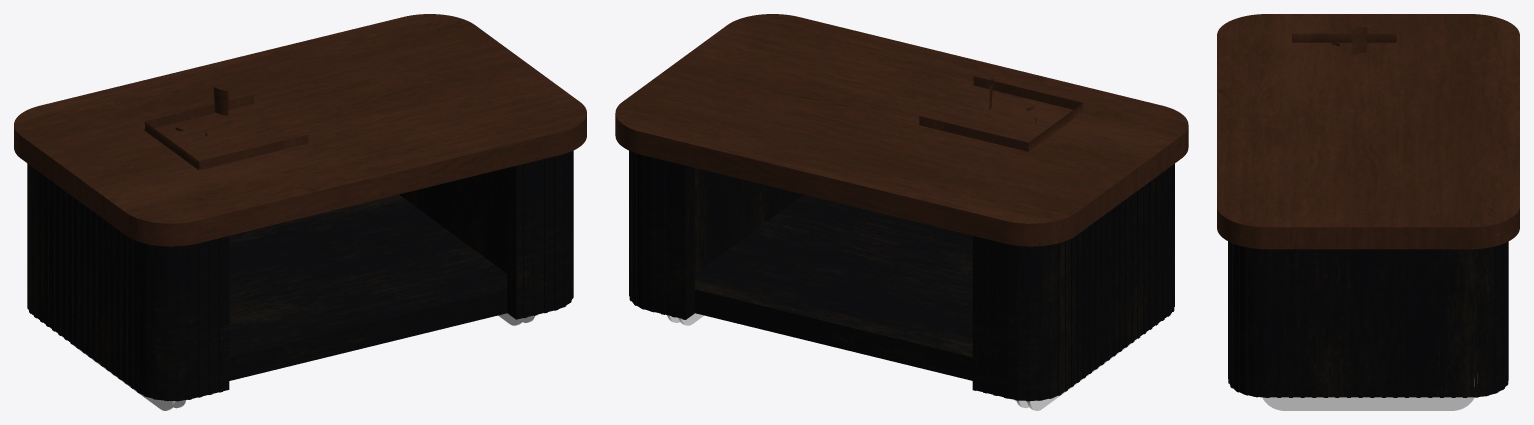
File: swordsehpa.glb
3 renders of one model, left to right at view 1: azimuth 30°, elevation 25°; view 2: azimuth 150°, elevation 25°; view 3: azimuth 270°, elevation 25°, orthographic. The views are drawn at different scales.
Visible parts, largest first — view 1: ASSET_Joined; view 2: ASSET_Joined; view 3: ASSET_Joined.
Boxes of the visible parts, x1,y1,x2,y2 form: ASSET_Joined: [14, 14, 586, 410]; ASSET_Joined: [615, 14, 1188, 410]; ASSET_Joined: [1217, 14, 1519, 410].
Bounding box in the file's own units: 1.05 × 0.5911 × 0.629.
Materials: 1 (1 with a texture image).
